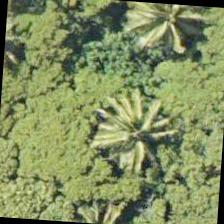Kelapa_Sawit: (87, 76, 183, 172), (111, 0, 206, 66)
